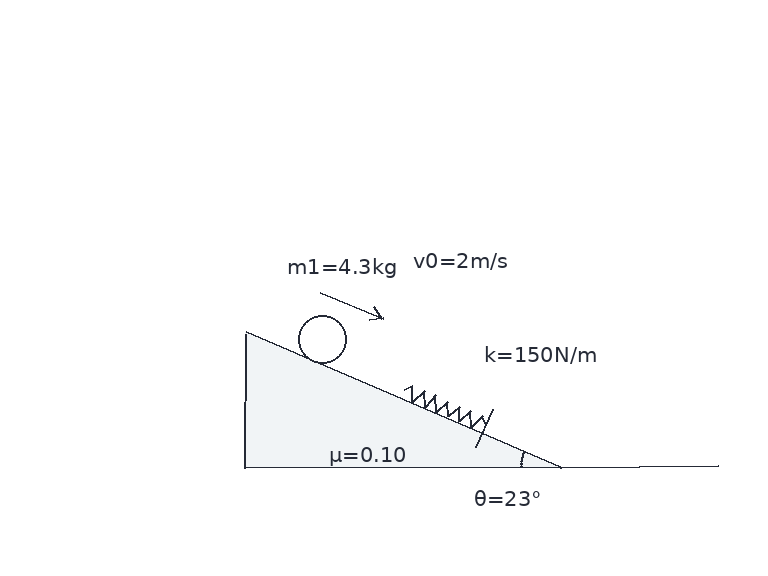ball: (296, 313, 348, 365)
ramp: (243, 331, 563, 469)
spring: (401, 384, 488, 429)
